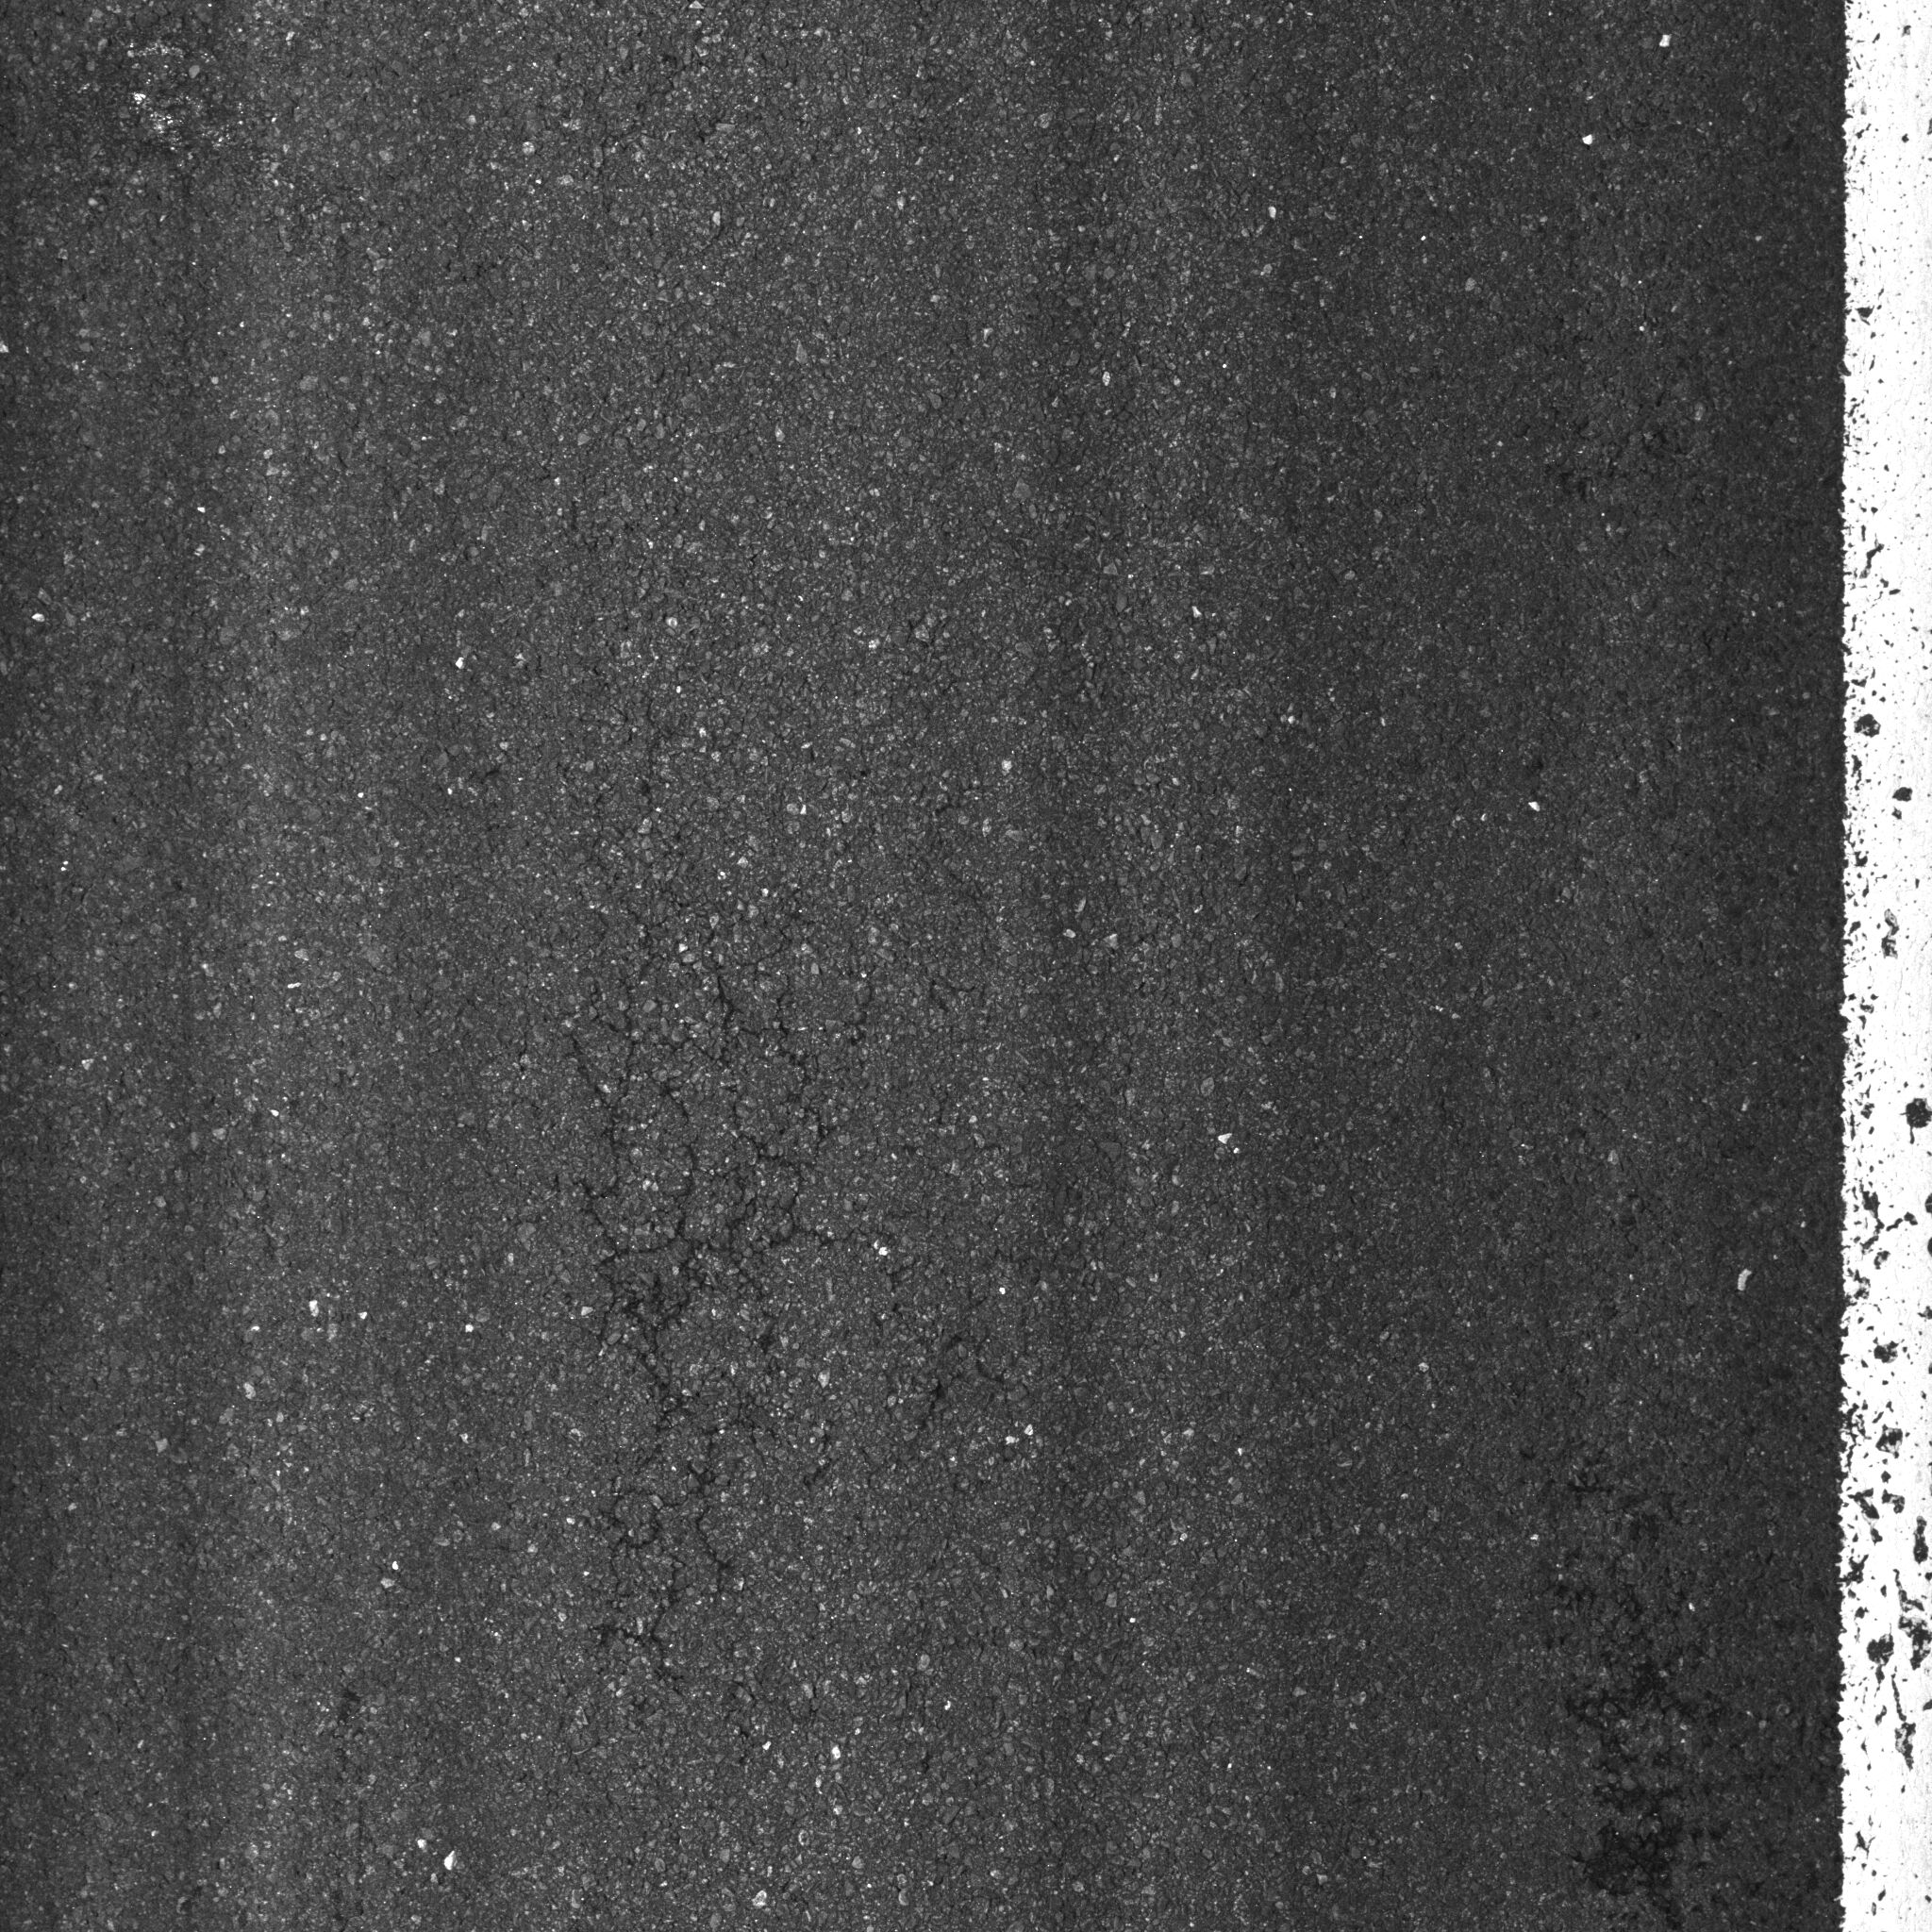alligator: (430, 745, 1102, 1700)
